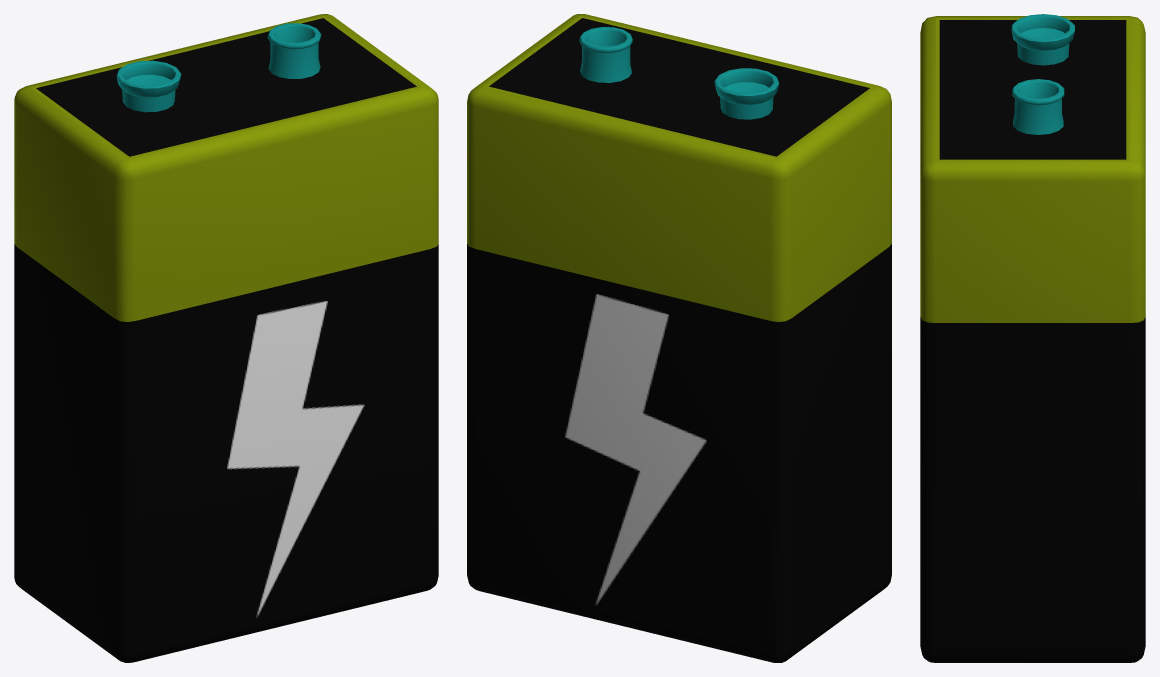
The model's file is 9V-battery.FBX.
The picture shows the model from 3 angles, left to right: view 1: azimuth 30°, elevation 25°; view 2: azimuth 150°, elevation 25°; view 3: azimuth 270°, elevation 25°; orthographic projection.
Visible parts, largest first — view 1: 9v-battery; view 2: 9v-battery; view 3: 9v-battery.
Part boxes in pixels (bbox=[...]): 9v-battery: bbox=[14, 14, 438, 662]; 9v-battery: bbox=[467, 14, 891, 662]; 9v-battery: bbox=[920, 14, 1145, 662].
Bounding box in the file's own units: 2.87 × 4.57 × 1.75.
3 materials, 1 textured.
